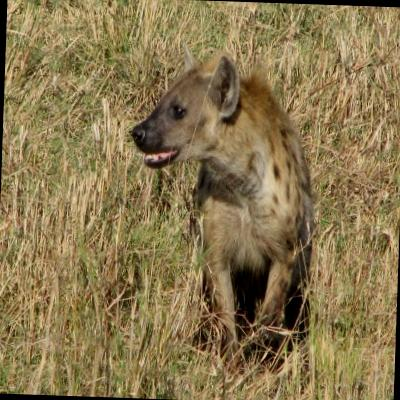hyenas: (83, 38, 354, 400)
